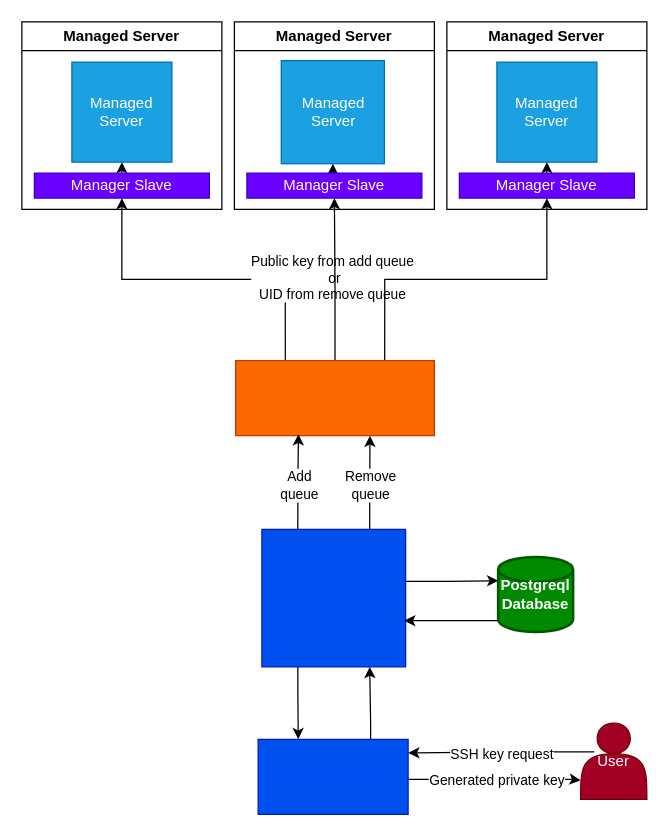
Image size: 669x836. Some labels were removed from this diagram. The centre of each missing label's shape, as x and y in pixels:
"Master Server" goes at point 333,597.
"RabbitMQ Broker" goes at point 334,397.
"SSR Self-Service Console" goes at point 332,776.
